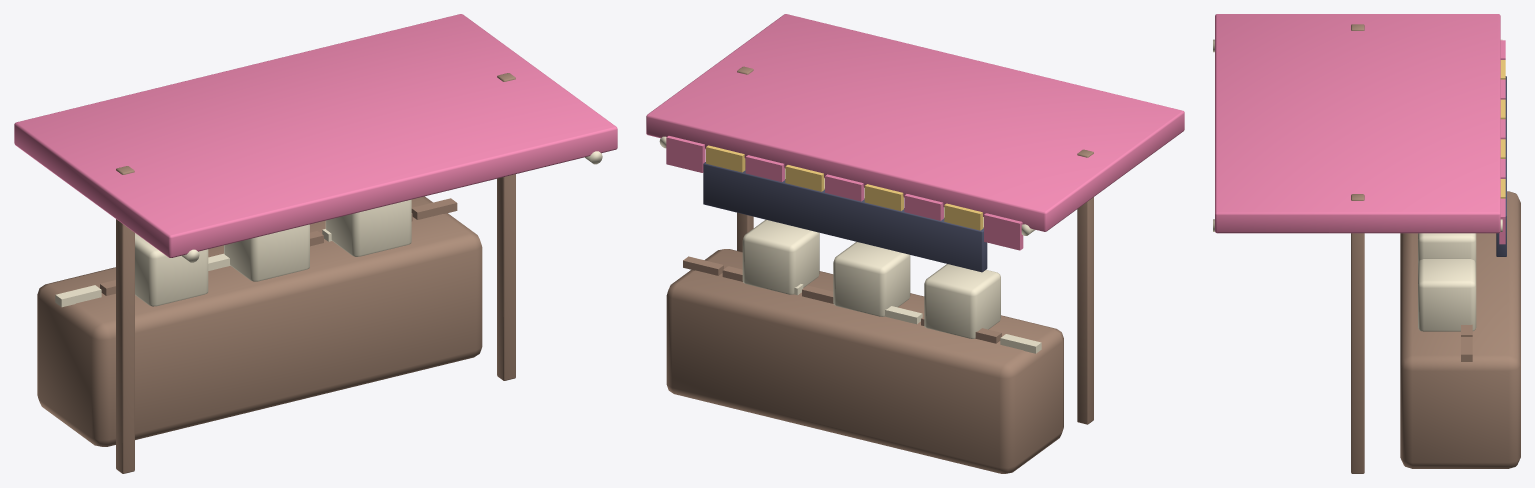
The model's file is FestivalStallSupplies.fbx.
The picture shows the model from 3 angles, left to right: view 1: azimuth 30°, elevation 25°; view 2: azimuth 150°, elevation 25°; view 3: azimuth 270°, elevation 25°; orthographic projection. The views are drawn at different scales.
Parts seen in each view (by area): view 1: FestivalStallSupplies Rose__Rose, FestivalStallSupplies Wood__Wood, FestivalStallSupplies Cream__Cream; view 2: FestivalStallSupplies Rose__Rose, FestivalStallSupplies Wood__Wood, FestivalStallSupplies Cream__Cream, FestivalStallSupplies Dark__Dark, FestivalStallSupplies Gold__Gold; view 3: FestivalStallSupplies Rose__Rose, FestivalStallSupplies Wood__Wood, FestivalStallSupplies Cream__Cream, FestivalStallSupplies Dark__Dark, FestivalStallSupplies Gold__Gold.
Part boxes in pixels (<box>): FestivalStallSupplies Rose__Rose: <box>14,14,617,257</box>; FestivalStallSupplies Wood__Wood: <box>37,73,515,473</box>; FestivalStallSupplies Cream__Cream: <box>55,151,602,307</box>; FestivalStallSupplies Rose__Rose: <box>646,14,1184,250</box>; FestivalStallSupplies Wood__Wood: <box>666,66,1093,473</box>; FestivalStallSupplies Cream__Cream: <box>659,136,1041,353</box>; FestivalStallSupplies Dark__Dark: <box>703,162,987,272</box>; FestivalStallSupplies Gold__Gold: <box>706,145,983,230</box>; FestivalStallSupplies Rose__Rose: <box>1215,14,1505,244</box>; FestivalStallSupplies Wood__Wood: <box>1351,24,1520,473</box>; FestivalStallSupplies Cream__Cream: <box>1213,39,1502,331</box>; FestivalStallSupplies Dark__Dark: <box>1496,76,1506,256</box>; FestivalStallSupplies Gold__Gold: <box>1500,60,1505,198</box>.
Size of the model in its own units: 530 by 340 by 344.
